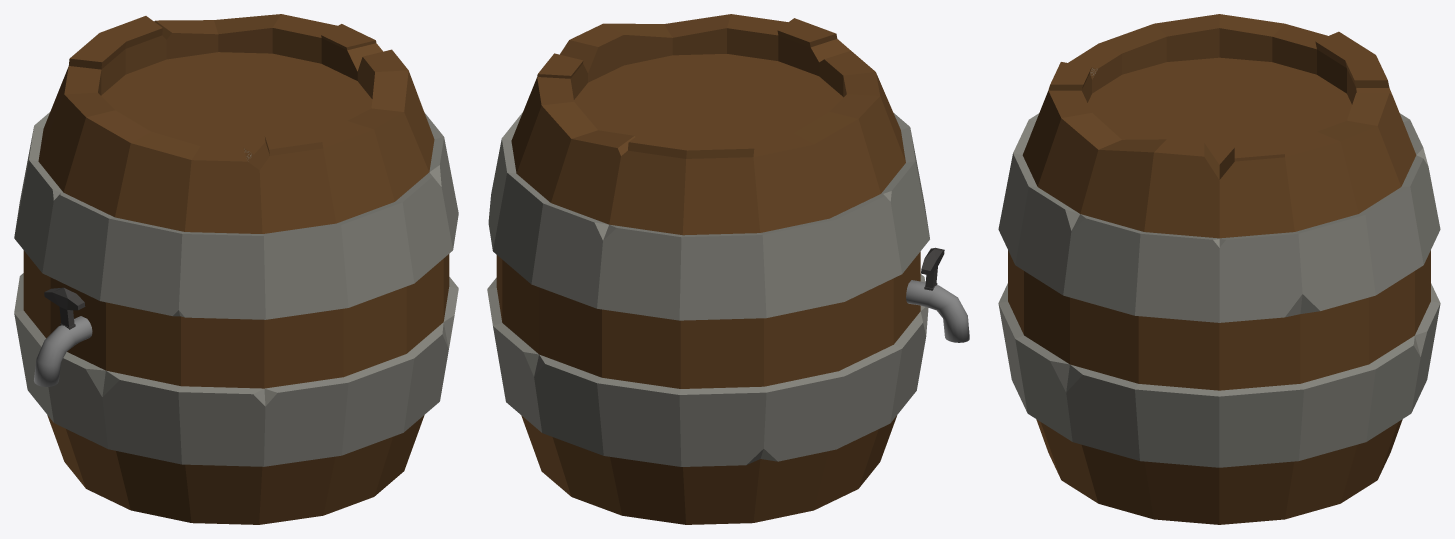
Rendered from Barrel.fbx.
The picture shows the model from 3 angles, left to right: view 1: azimuth 30°, elevation 25°; view 2: azimuth 150°, elevation 25°; view 3: azimuth 270°, elevation 25°; orthographic projection.
Parts seen in each view (by area): view 1: barrel, tap, valve; view 2: barrel, tap, valve; view 3: barrel.
Boxes of the visible parts, x1,y1,x2,y2 form: barrel: (14, 14, 458, 524); tap: (34, 316, 92, 386); valve: (44, 287, 85, 329); barrel: (487, 14, 929, 524); tap: (906, 280, 969, 342); valve: (921, 247, 944, 290); barrel: (998, 14, 1440, 524).
Bounding box in the file's own units: 71.09 × 60 × 65.
